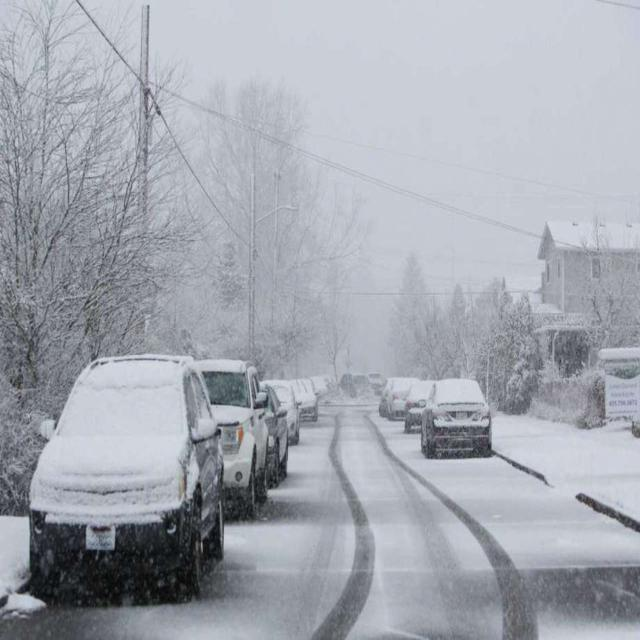car: (30, 353, 224, 588), (219, 360, 266, 522), (426, 377, 492, 460), (262, 386, 284, 493), (402, 382, 434, 434), (276, 381, 298, 450), (291, 378, 319, 425), (388, 378, 408, 416), (365, 370, 383, 391)
